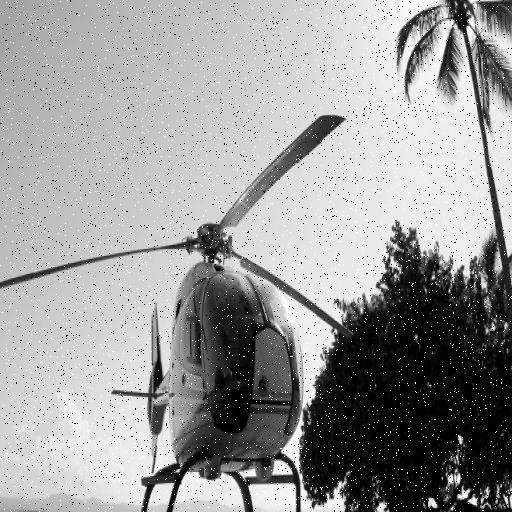helicopter: (1, 92, 400, 512)
